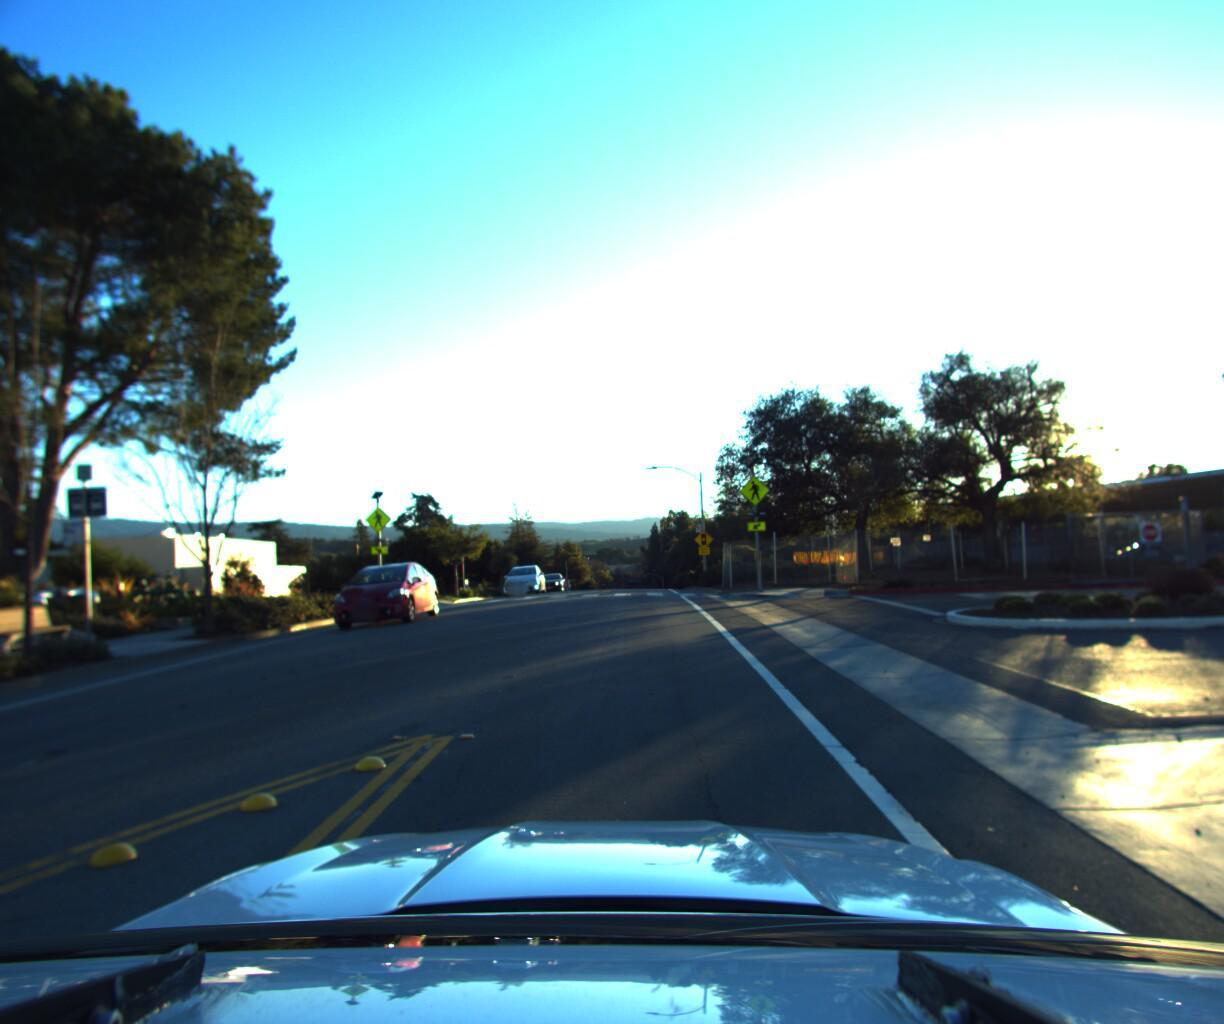car: (313, 560, 444, 637), (501, 561, 550, 594), (533, 564, 567, 589)
